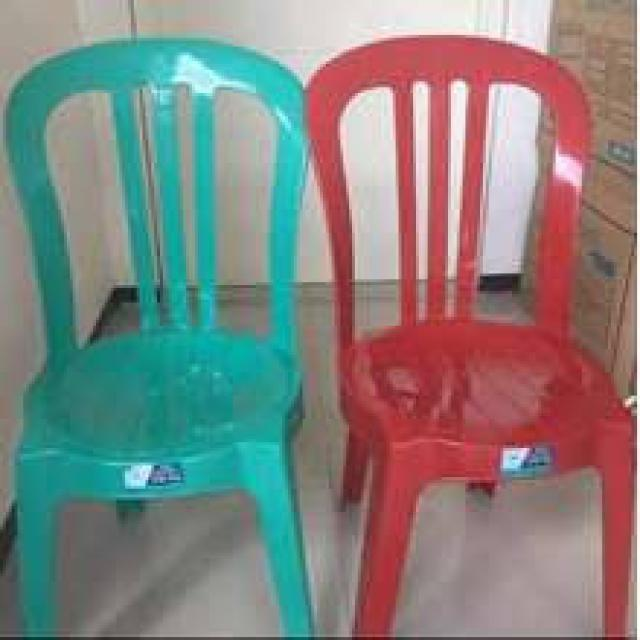chair: (311, 34, 640, 640), (9, 33, 313, 640)
